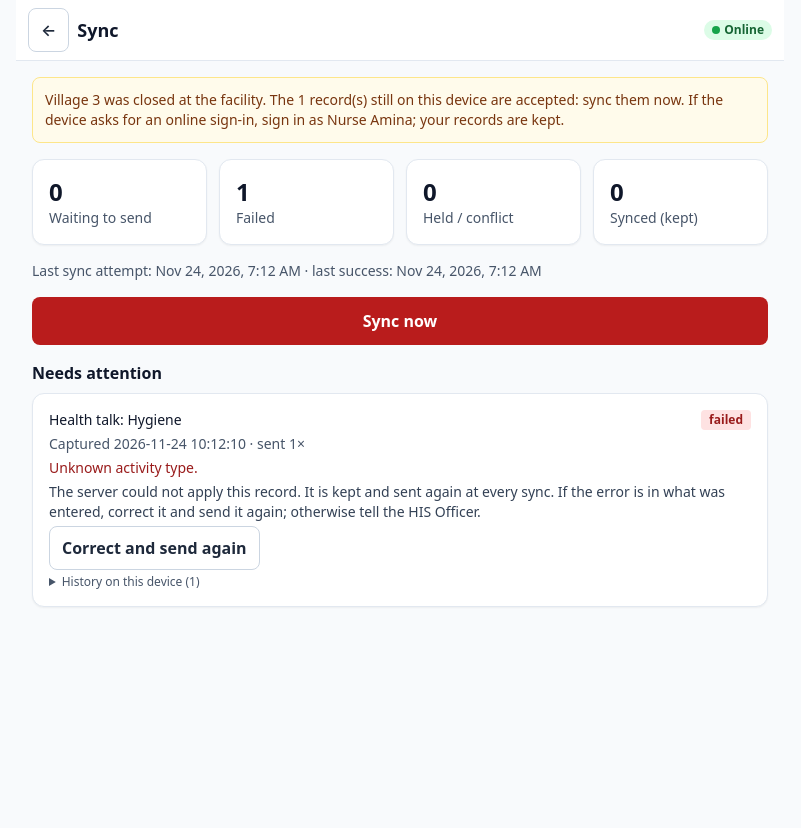
Scenario: fix round 1 in the app (jsdom) › F2: a failed record opens prefilled from the Sync screen and is re-sent with the same uuid
Expected: the text "Unknown activity type." is shown, [49,458,198,477]
Click the button "Correct and send again" at coordinates (154, 548), box [49,526,260,570]
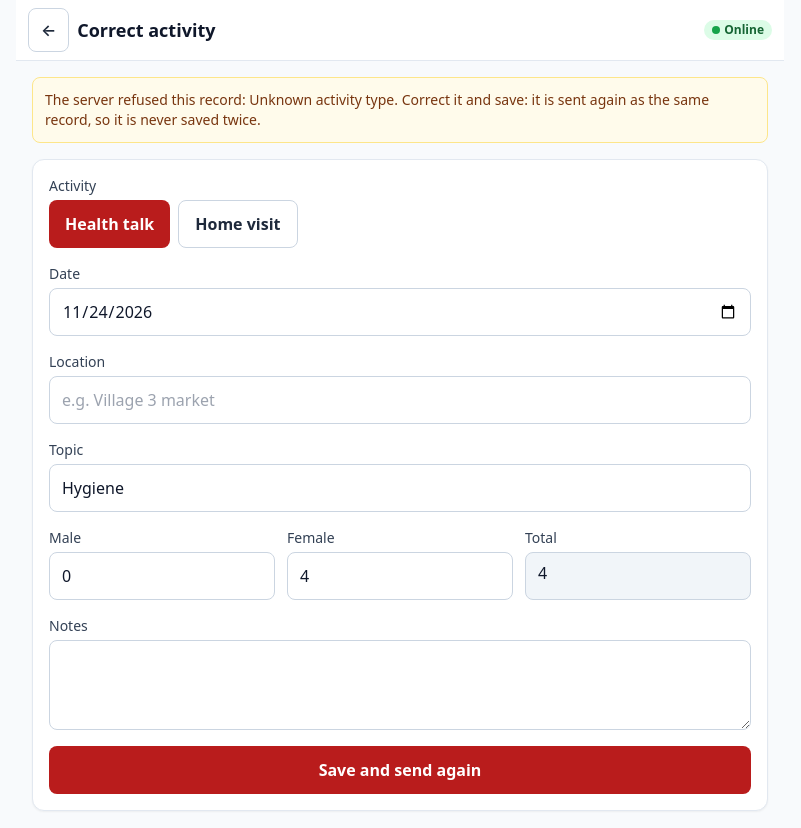
Expected: the heading "Correct activity" is shown, [77,18,216,42]
Expected: the field showing "Hygiene" below "Topic" holds "Hygiene", [49,464,751,512]
Click the radio button labelled "Home visit" at coordinates (238, 224), box [178,200,298,248]
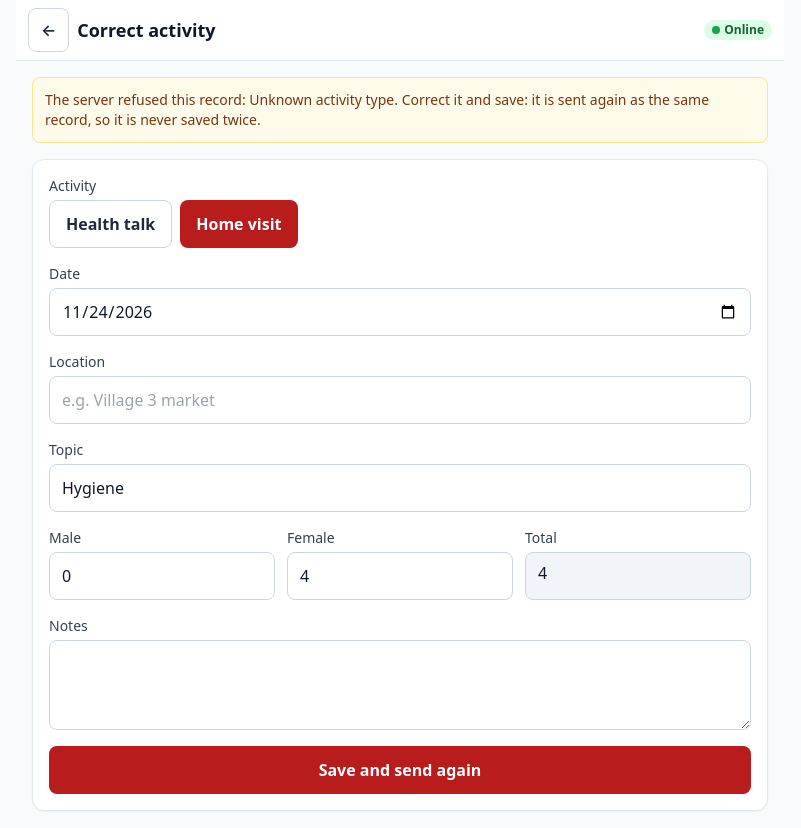
Click the button "Save and send again" at coordinates (400, 770), box [49,746,751,794]
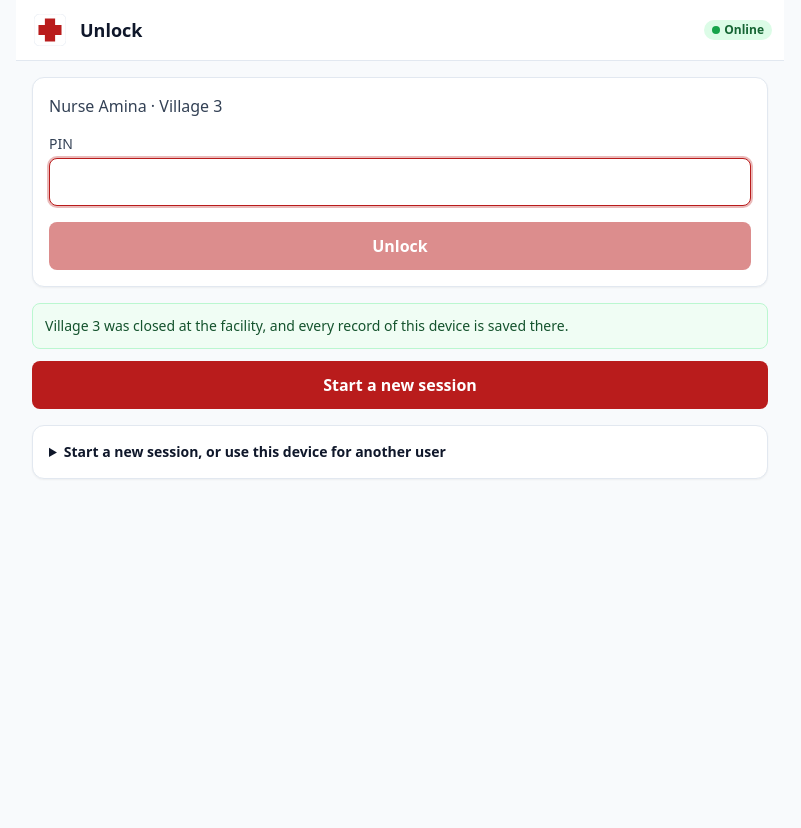
Expected: the heading "Correct activity" is gone
